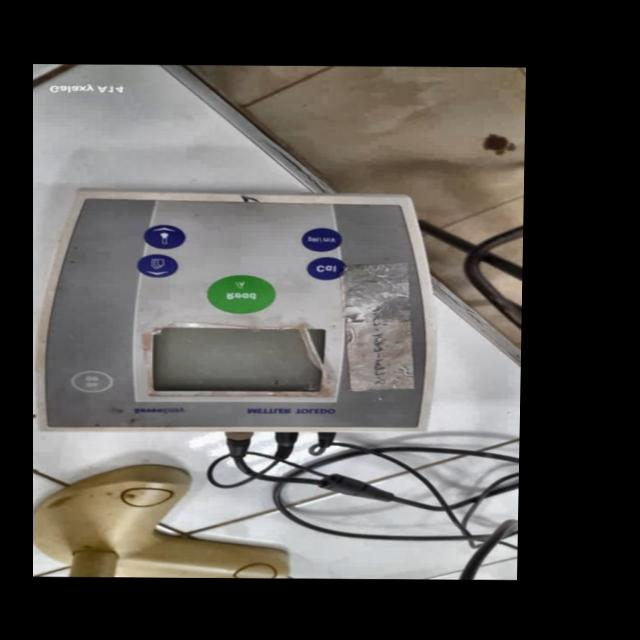PH meter: (35, 184, 428, 434)
